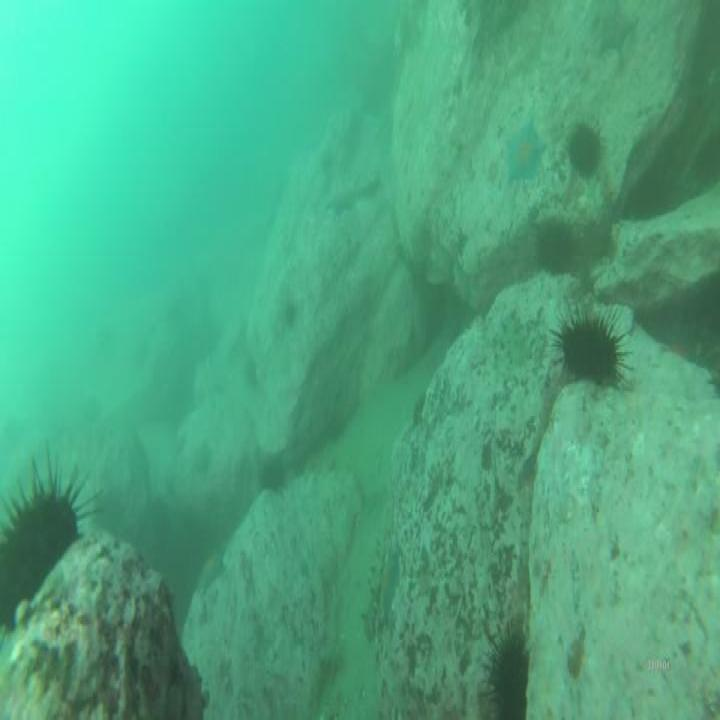echinus: (2, 490, 79, 626), (560, 316, 619, 378), (492, 645, 528, 720), (537, 217, 571, 277), (568, 123, 601, 174), (259, 458, 287, 490)
starfish: (504, 124, 545, 182), (381, 556, 397, 626), (198, 551, 224, 594)
